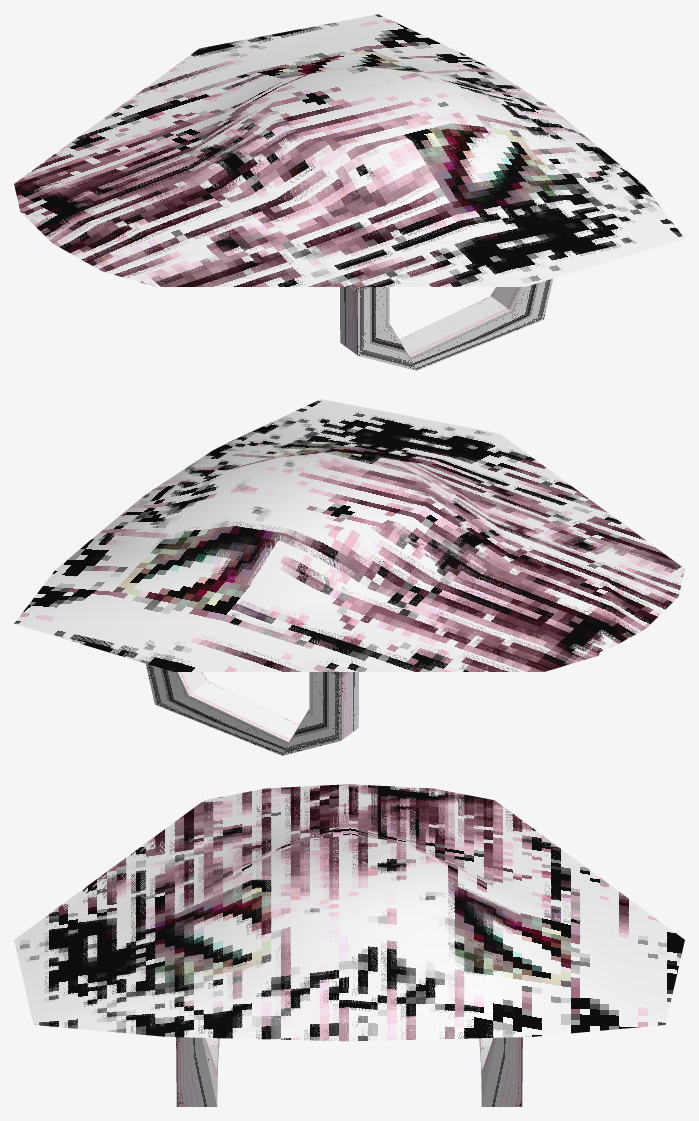
File: ShieldBasic.fbx
3 views of the same model, one above another, from view 1: azimuth 30°, elevation 25°; view 2: azimuth 150°, elevation 25°; view 3: azimuth 270°, elevation 25° (orthographic). The views are drawn at different scales.
Parts seen in each view (by area): view 1: Circle; view 2: Circle; view 3: Circle.
Part boxes in pixels (<box>): Circle: <box>14,14,684,370</box>; Circle: <box>14,399,684,755</box>; Circle: <box>14,784,684,1106</box>.
Bounding box in the file's own units: 167 × 60.77 × 184.
